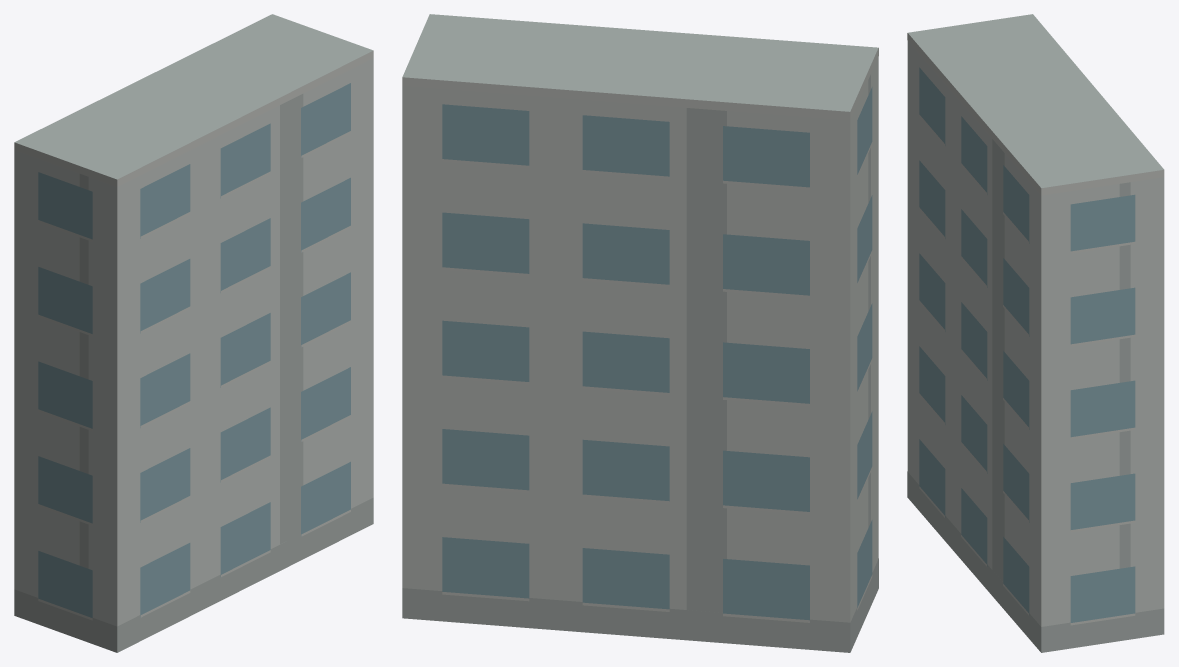
The model's file is survey-upis-32875335.glb.
The picture shows the model from 3 angles, left to right: view 1: azimuth 30°, elevation 25°; view 2: azimuth 150°, elevation 25°; view 3: azimuth 270°, elevation 25°; orthographic projection. The views are drawn at different scales.
Visible parts, largest first — view 1: survey-upis-32875335.tmp; view 2: survey-upis-32875335.tmp; view 3: survey-upis-32875335.tmp.
Part boxes in pixels (x1,y1,x2,y2): survey-upis-32875335.tmp: [14, 14, 373, 652]; survey-upis-32875335.tmp: [402, 14, 878, 652]; survey-upis-32875335.tmp: [907, 14, 1164, 652].
Size of the model in its own units: 12.27 by 15.25 by 7.65.
